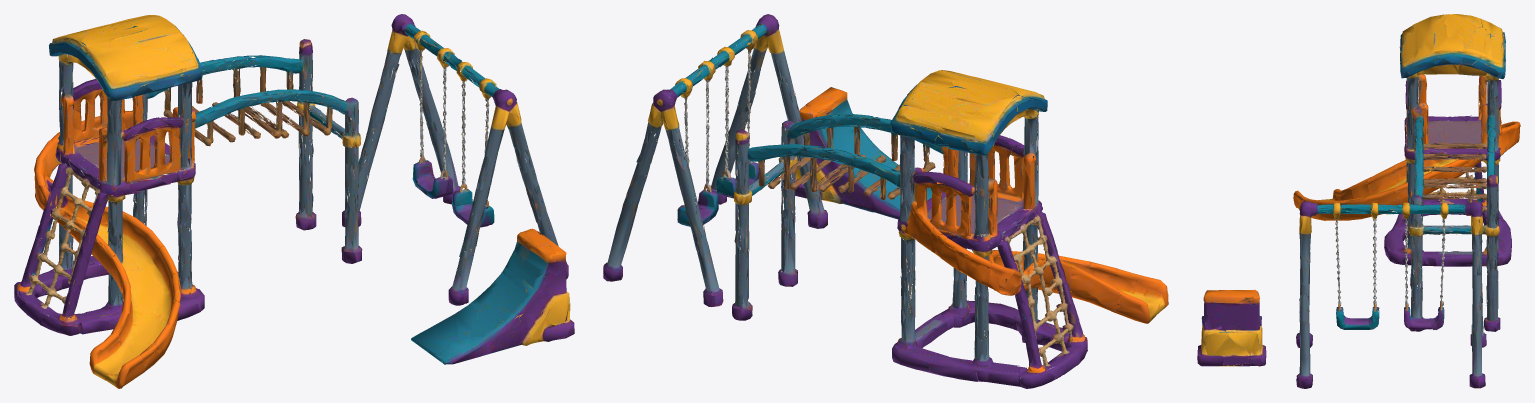
The model's file is playground.glb.
3 views of the same model, side by side, from view 1: azimuth 30°, elevation 25°; view 2: azimuth 150°, elevation 25°; view 3: azimuth 270°, elevation 25° (orthographic). The views are drawn at different scales.
Visible parts, largest first — view 1: Mesh_0; view 2: Mesh_0; view 3: Mesh_0.
Boxes of the visible parts, x1,y1,x2,y2 form: Mesh_0: [14, 14, 574, 388]; Mesh_0: [603, 14, 1168, 388]; Mesh_0: [1197, 14, 1520, 388].
Bounding box in the file's own units: 1.9 × 1.05 × 1.41.
Materials: 1 (1 with a texture image).
